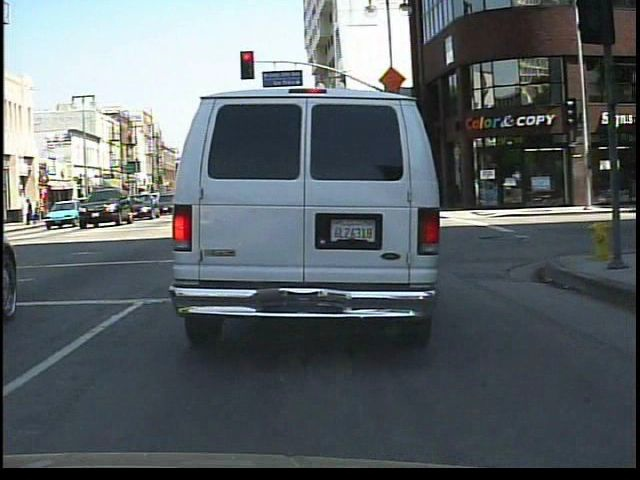person: (24, 198, 38, 229)
